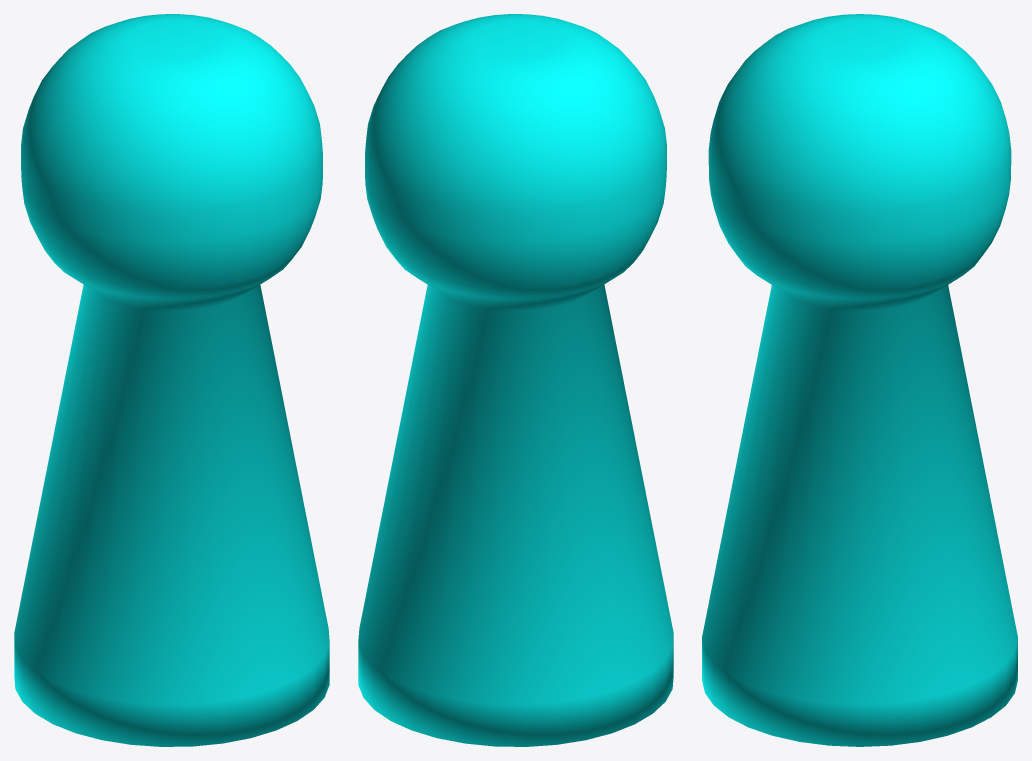
The model's file is player.glb.
3 views of the same model, side by side, from view 1: azimuth 30°, elevation 25°; view 2: azimuth 150°, elevation 25°; view 3: azimuth 270°, elevation 25° (orthographic).
Visible parts, largest first — view 1: Cylinder; view 2: Cylinder; view 3: Cylinder.
Boxes of the visible parts, x1,y1,x2,y2 form: Cylinder: (14, 14, 329, 746); Cylinder: (358, 14, 673, 746); Cylinder: (702, 14, 1017, 746).
Bounding box in the file's own units: 2.2 × 4.92 × 2.2.
1 material, 1 textured.
